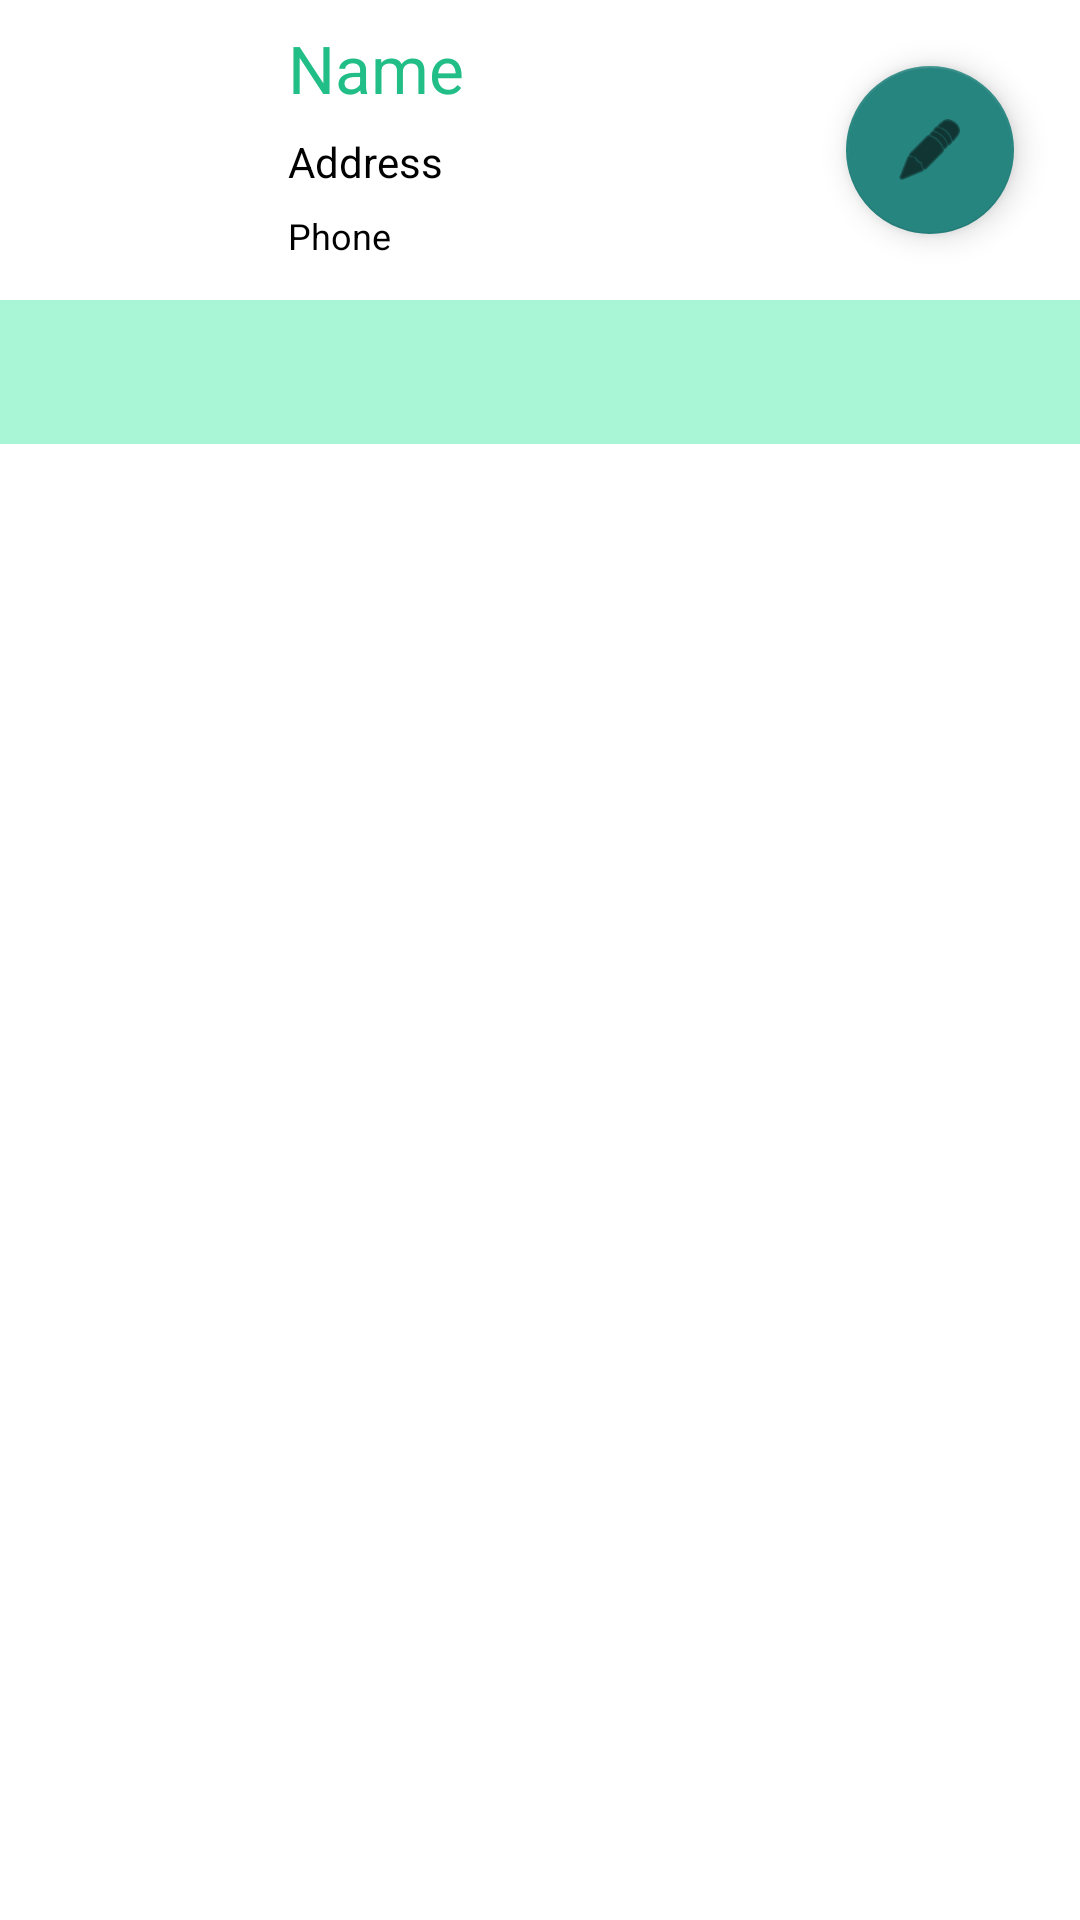

Where to tap for icons on this 1080x1920 app screen, as (x,y):
edit: (930,150)
